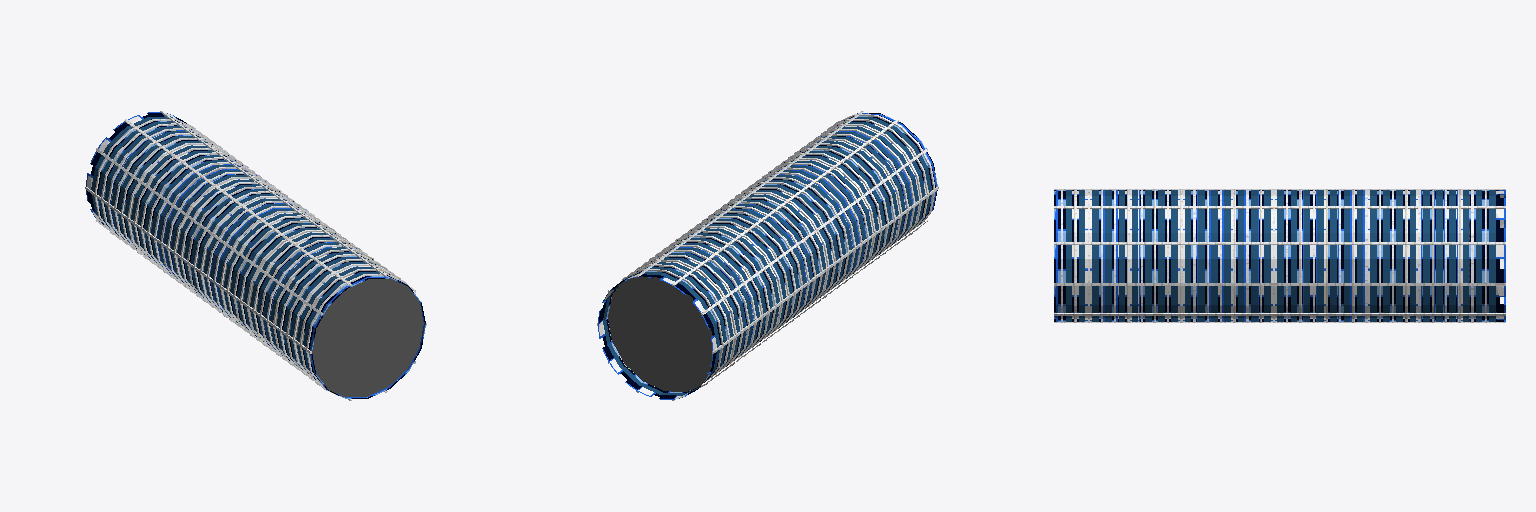
3 renders of one model, left to right at view 1: azimuth 30°, elevation 25°; view 2: azimuth 150°, elevation 25°; view 3: azimuth 270°, elevation 25°, orthographic.
Parts seen in each view (by area): view 1: columns_01, glaz_01, slab_01, wall_01; view 2: columns_01, glaz_01, slab_new_01, wall_01; view 3: glaz_01, wall_01, columns_01.
Part boxes in pixels (left/top/right/bottom): columns_01: left=85, top=111, right=426, bottom=400; glaz_01: left=91, top=116, right=383, bottom=377; slab_01: left=312, top=278, right=423, bottom=397; wall_01: left=86, top=112, right=425, bottom=398; columns_01: left=597, top=111, right=938, bottom=400; glaz_01: left=603, top=117, right=931, bottom=395; slab_new_01: left=608, top=277, right=712, bottom=391; wall_01: left=598, top=113, right=937, bottom=399; glaz_01: left=1066, top=190, right=1495, bottom=321; wall_01: left=1054, top=190, right=1505, bottom=321; columns_01: left=1054, top=189, right=1505, bottom=322.
Size of the model in its own units: 1299 by 1299 by 4342.
4 materials, 2 textured.